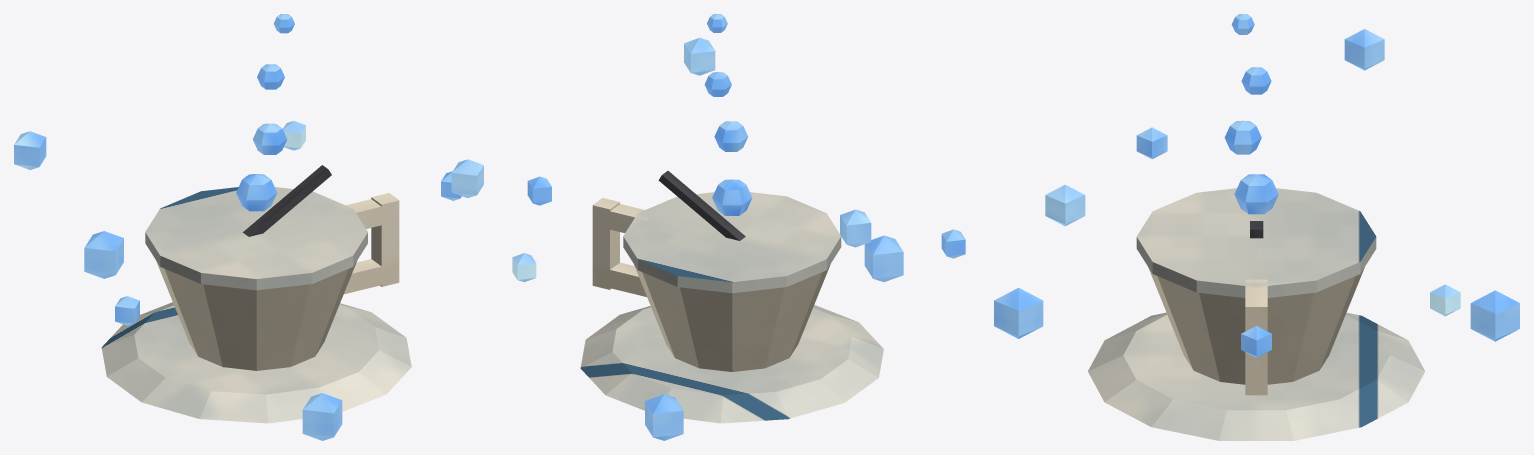
Rendered from teacup.glb.
3 views of the same model, side by side, from view 1: azimuth 30°, elevation 25°; view 2: azimuth 150°, elevation 25°; view 3: azimuth 270°, elevation 25° (orthographic). The views are drawn at different scales.
Visible parts, largest first — view 1: teacup__K_ceramic, teacup__K_cream, teacup__K_magic, teacup__K_iron; view 2: teacup__K_ceramic, teacup__K_cream, teacup__K_magic, teacup__K_iron; view 3: teacup__K_ceramic, teacup__K_cream, teacup__K_magic.
Part boxes in pixels (left/top/right/bottom): teacup__K_ceramic: left=101, top=187, right=411, bottom=423; teacup__K_cream: left=156, top=193, right=399, bottom=370; teacup__K_magic: left=14, top=14, right=483, bottom=440; teacup__K_iron: left=243, top=165, right=331, bottom=236; teacup__K_ceramic: left=580, top=192, right=883, bottom=423; teacup__K_cream: left=592, top=198, right=830, bottom=371; teacup__K_magic: left=512, top=14, right=965, bottom=440; teacup__K_iron: left=658, top=171, right=745, bottom=240; teacup__K_ceramic: left=1088, top=188, right=1425, bottom=440; teacup__K_cream: left=1148, top=267, right=1364, bottom=395; teacup__K_magic: left=994, top=14, right=1519, bottom=357.
Size of the model in its own units: 1.12 by 0.916 by 1.18.
5 materials, 5 textured.
